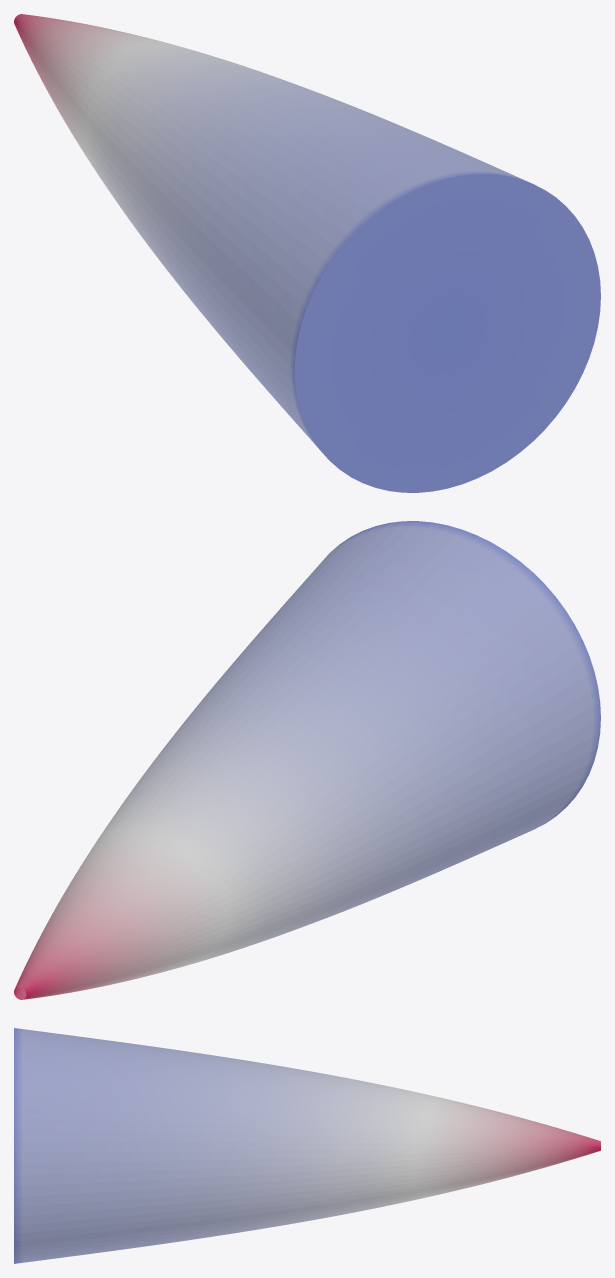
File: frame_026_unlit.glb
The picture shows the model from 3 angles, top to bottom: view 1: azimuth 30°, elevation 25°; view 2: azimuth 150°, elevation 25°; view 3: azimuth 270°, elevation 25°; orthographic projection. The views are drawn at different scales.
Visible parts, largest first — view 1: geometry_0; view 2: geometry_0; view 3: geometry_0.
Boxes of the visible parts, bbox=[...] form: geometry_0: bbox=[14, 14, 600, 492]; geometry_0: bbox=[14, 521, 600, 999]; geometry_0: bbox=[14, 1028, 600, 1263].
Size of the model in its own units: 0.4134 by 0.4 by 1.
